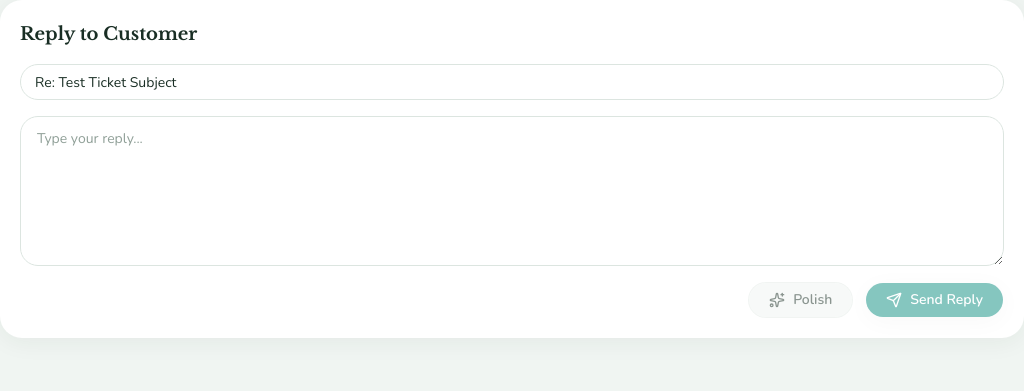
Test: ReplyForm › displays rate limit error message
Expected: the text "Reply to Customer" is shown, [20,23,197,45]
Type "Test reply" into the text box with placeholder "Type your reply..." at (512, 191), box [20,116,1004,266]
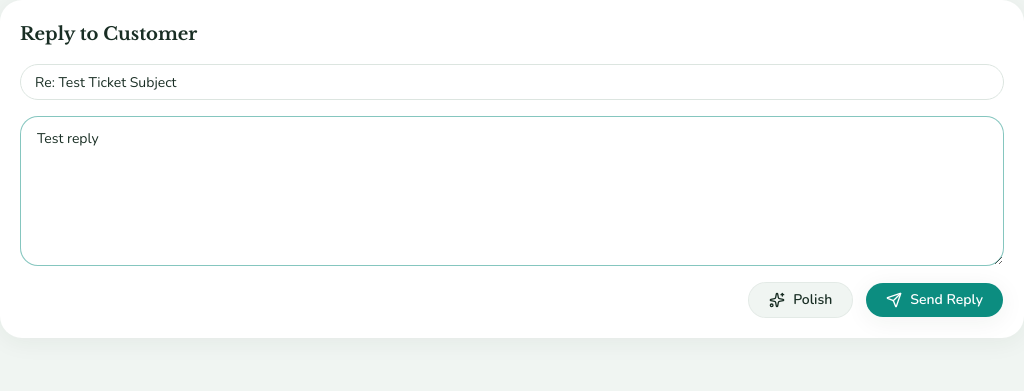
Click the button "Polish" at (801, 300), box [748,282,853,318]
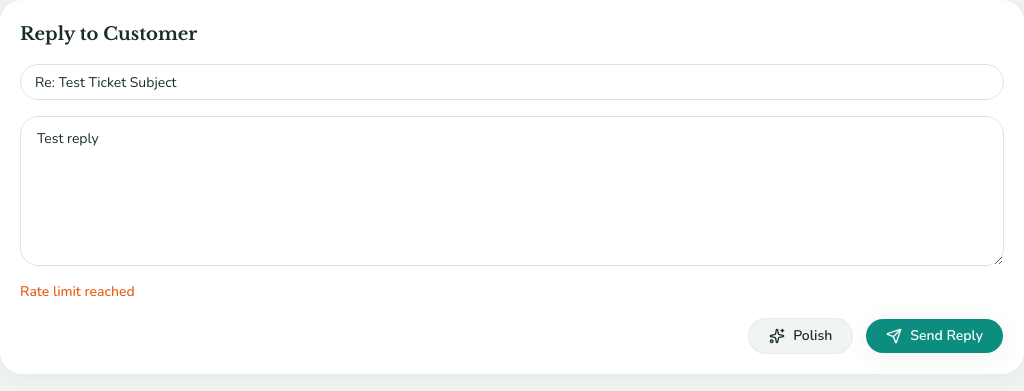
Expected: the text "Rate limit reached" is shown, [20,282,135,301]
